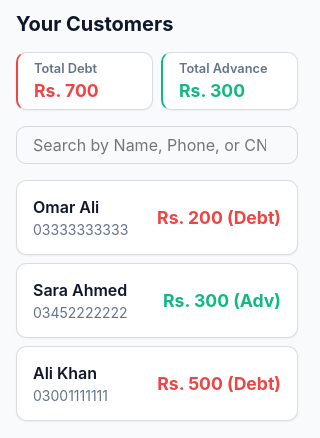
CustomerList › Balance filter › clicking active filter again deactivates it (toggle off)
This screenshot has width=320, height=438.
What coordinates should you click on to do the following:
click the button with aria-label "Filter customers with outstanding debt"
I would click on:
 (84, 80)
Its box is [16,52,153,110].
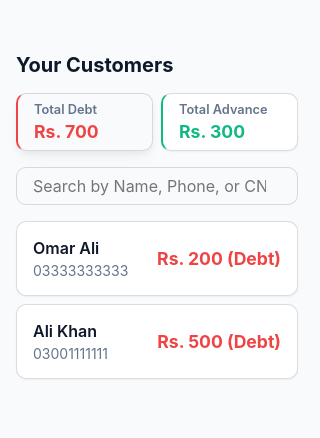
Check: the button with aria-label "Filter customers with outstanding debt" is pressed
What coordinates should you click on to do the following:
click the button with aria-label "Filter customers with outstanding debt"
I would click on:
 (84, 122)
Its box is [16,93,153,151].
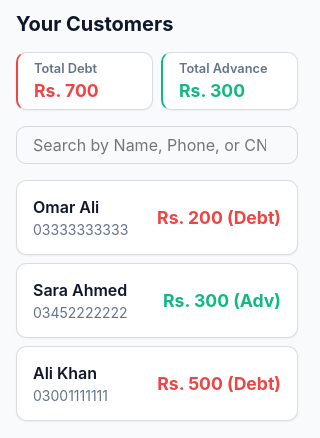
Check: the button "Ali Khan 03001111111 Rs. 500 (Debt)" is shown, box [16,346,298,420]
Check: the button "Sara Ahmed 03452222222 Rs. 300 (Adv)" is shown, box [16,262,298,338]
